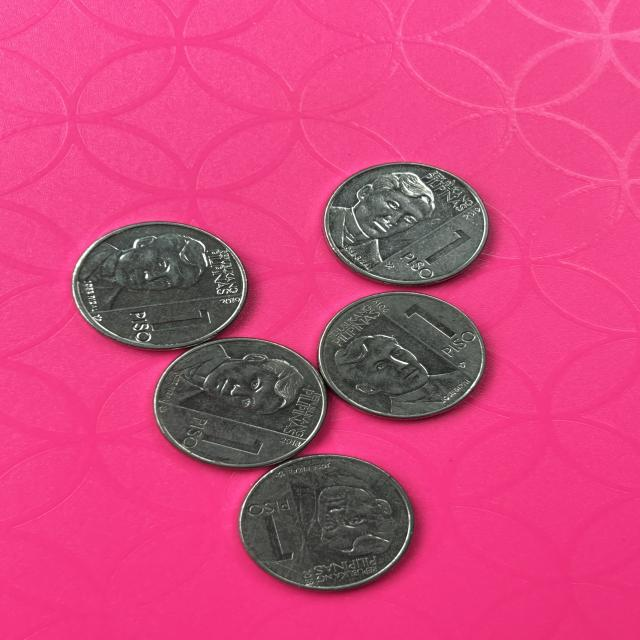1_New_Front: (397, 301, 488, 362), (177, 412, 277, 464), (245, 495, 314, 568), (406, 228, 482, 274), (113, 304, 222, 336)
